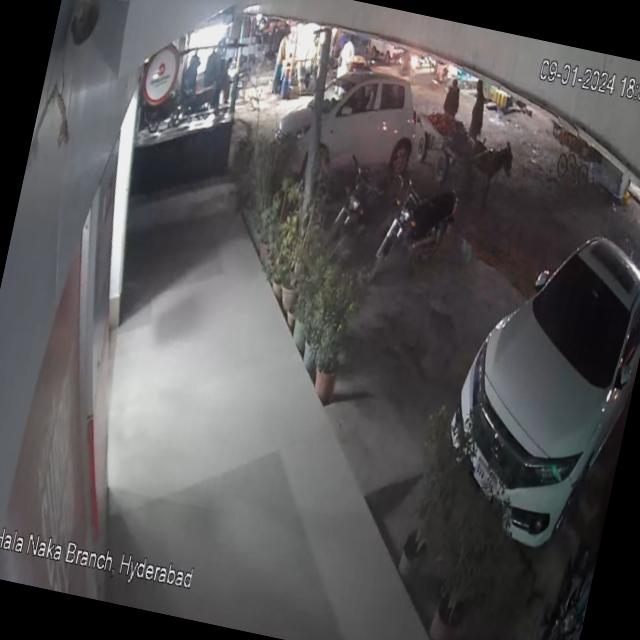Car: (425, 196, 640, 579), (266, 56, 444, 208)
Motorcycle: (370, 160, 467, 302), (316, 140, 408, 264)
